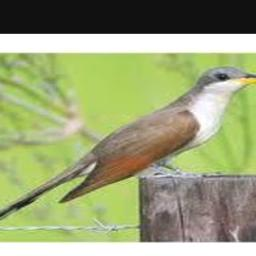Cuckoo: (0, 66, 256, 227)
